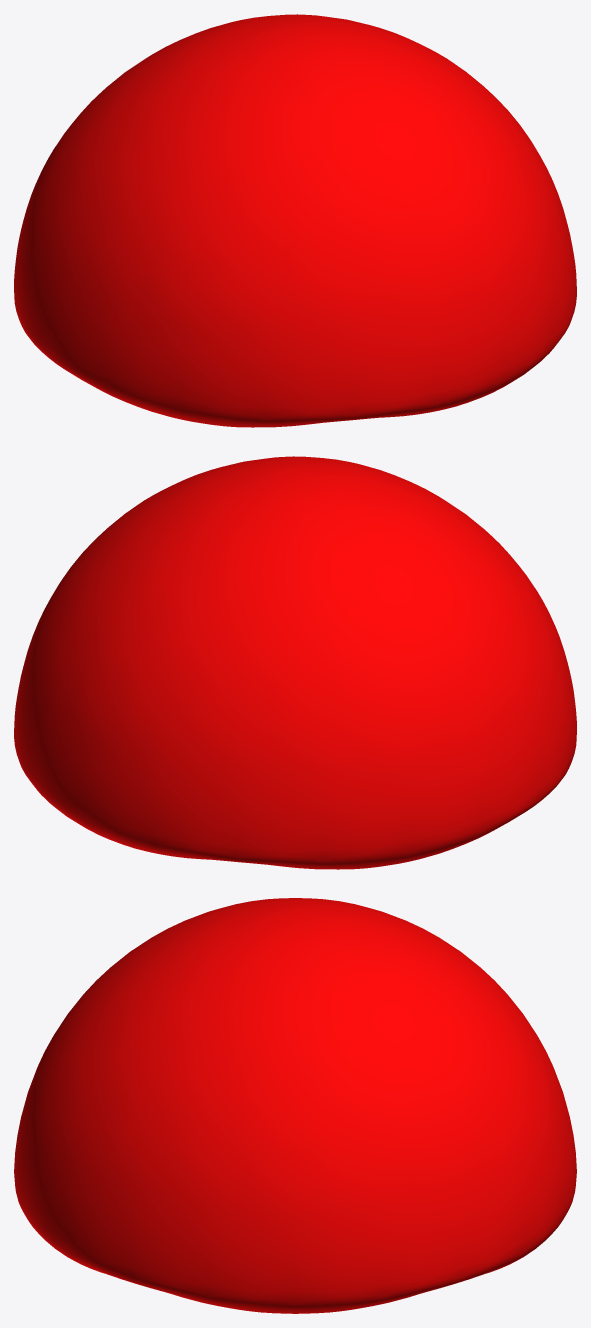
File: slime_red.glb
3 views of the same model, one above another, from view 1: azimuth 30°, elevation 25°; view 2: azimuth 150°, elevation 25°; view 3: azimuth 270°, elevation 25° (orthographic).
Parts seen in each view (by area): view 1: Icosphere; view 2: Icosphere; view 3: Icosphere.
Boxes of the visible parts, x1,y1,x2,y2 form: Icosphere: (14,14,576,427); Icosphere: (14,456,576,869); Icosphere: (14,898,576,1313).
Size of the model in its own units: 1.96 by 1.18 by 1.96.
